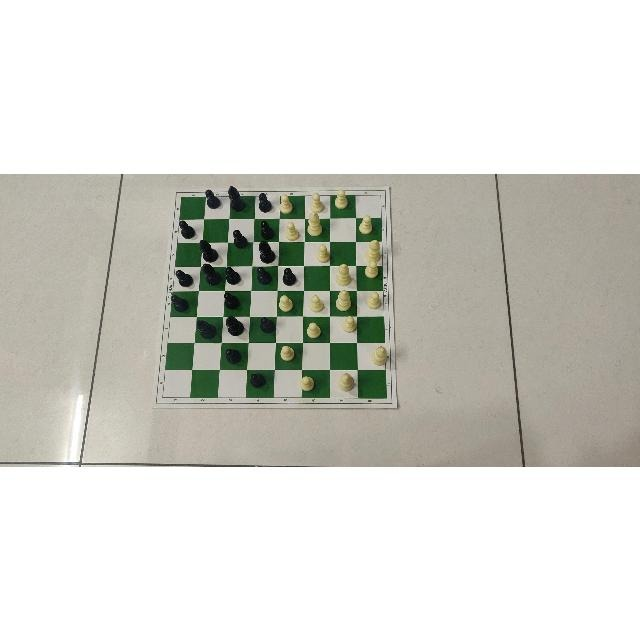black-bishop: (226, 182, 248, 212), (194, 314, 219, 340), (198, 238, 222, 262), (202, 260, 222, 288), (255, 239, 278, 262), (225, 313, 243, 337)
black-pawn: (227, 226, 249, 252), (199, 186, 220, 213), (222, 342, 245, 366), (248, 369, 270, 394), (252, 317, 276, 339), (170, 291, 191, 315), (279, 265, 301, 287), (176, 216, 197, 239), (256, 188, 274, 214), (255, 219, 278, 239), (175, 266, 195, 288), (253, 265, 273, 286), (222, 291, 243, 311), (224, 266, 243, 288)
white-bishop: (332, 367, 360, 391), (305, 211, 329, 237), (329, 263, 353, 288), (368, 342, 389, 368), (362, 238, 385, 261), (332, 287, 355, 310)
white-pawn: (276, 342, 300, 365), (357, 211, 378, 236), (337, 313, 357, 338), (305, 316, 326, 339), (299, 369, 317, 394), (307, 187, 324, 212), (305, 291, 324, 313), (363, 289, 381, 312), (363, 259, 380, 283), (334, 188, 351, 212), (312, 241, 331, 262), (278, 291, 296, 313), (279, 192, 296, 214), (284, 219, 301, 240)
